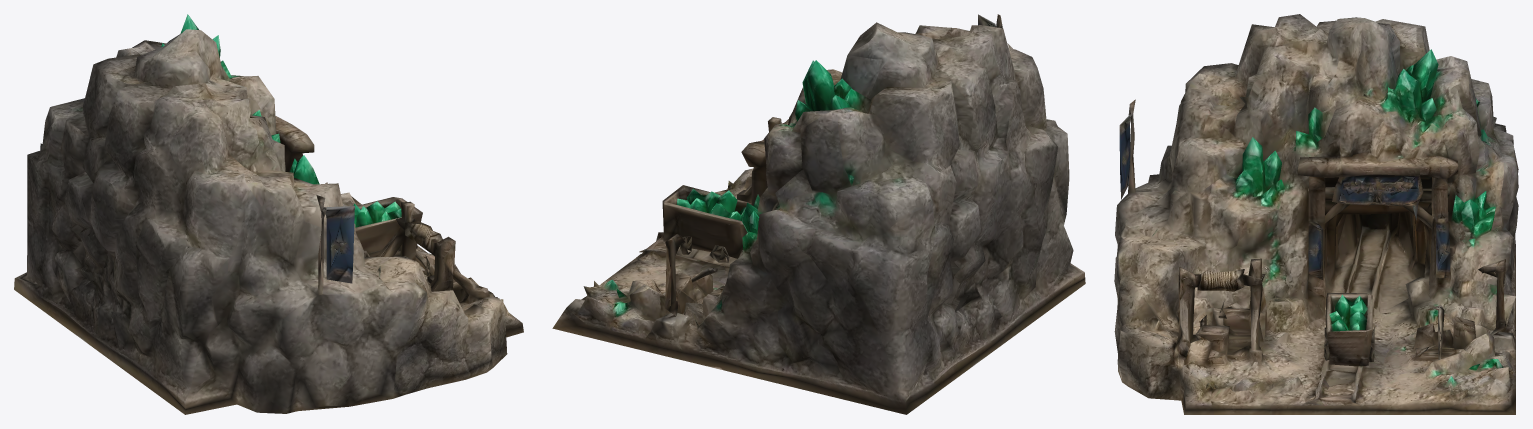
Rendered from dia_mine_green.glb.
The picture shows the model from 3 angles, left to right: view 1: azimuth 30°, elevation 25°; view 2: azimuth 150°, elevation 25°; view 3: azimuth 270°, elevation 25°; orthographic projection. The views are drawn at different scales.
Parts seen in each view (by area): view 1: tripo_node_03af53be-5c1a-49b9-aa65-08498f1ed696; view 2: tripo_node_03af53be-5c1a-49b9-aa65-08498f1ed696; view 3: tripo_node_03af53be-5c1a-49b9-aa65-08498f1ed696.
Boxes of the visible parts, x1,y1,x2,y2 form: tripo_node_03af53be-5c1a-49b9-aa65-08498f1ed696: [14, 14, 523, 414]; tripo_node_03af53be-5c1a-49b9-aa65-08498f1ed696: [552, 14, 1085, 414]; tripo_node_03af53be-5c1a-49b9-aa65-08498f1ed696: [1114, 14, 1518, 414].
Bounding box in the file's own units: 0.9248 × 0.754 × 0.9789.
Materials: 1 (1 with a texture image).
